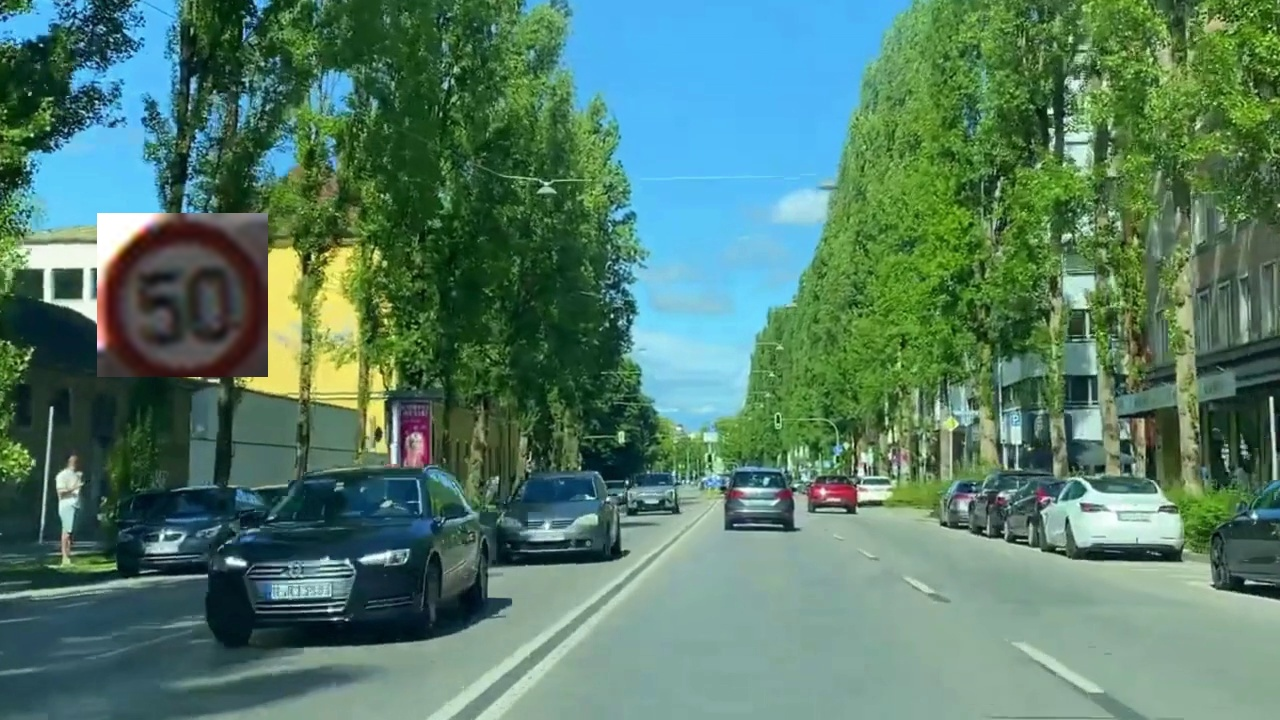Speed 50: (97, 213, 268, 377)
